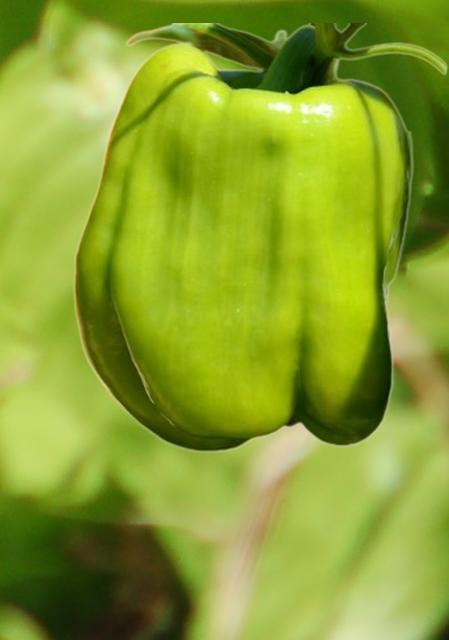bell_pepper: (72, 23, 447, 452)
